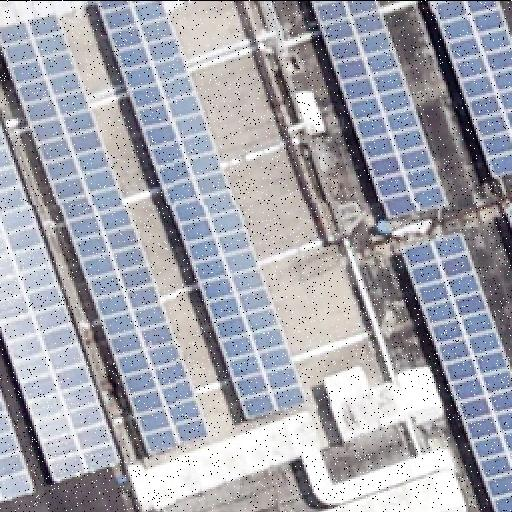solar-panel: (0, 11, 208, 453), (97, 0, 303, 416), (0, 122, 120, 482), (400, 230, 512, 512), (310, 0, 450, 218), (428, 0, 512, 176), (0, 395, 32, 501), (504, 206, 512, 234)
